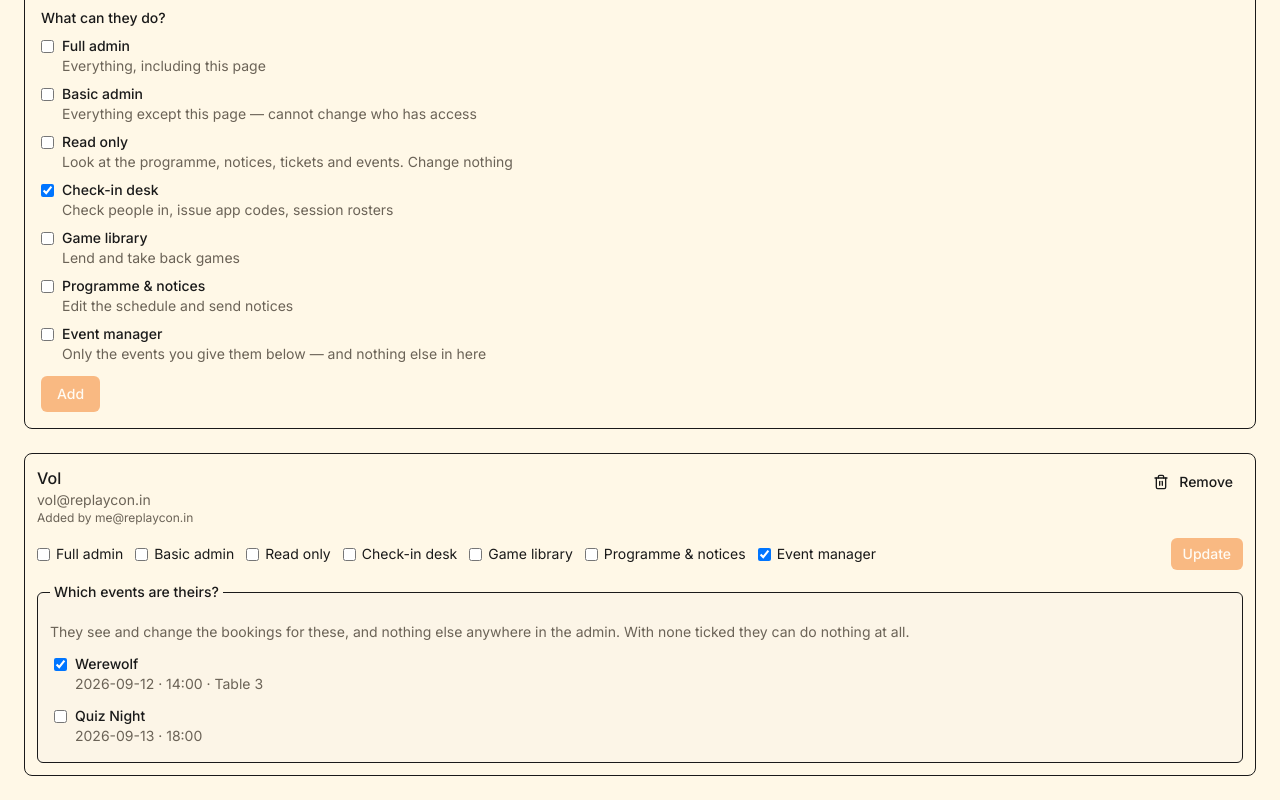
Scenario: handing somebody the events they run › counts a change of sessions alone as an edit worth saving
(page scrolled)
Expected: the button "Update" is disabled, [1170,538,1243,570]
What coordinates should you click on to do the following:
click the checkbox labelled "Quiz Night 2026-09-13 · 18:00"
I would click on:
 (60, 716)
Its box is [54,710,67,723].
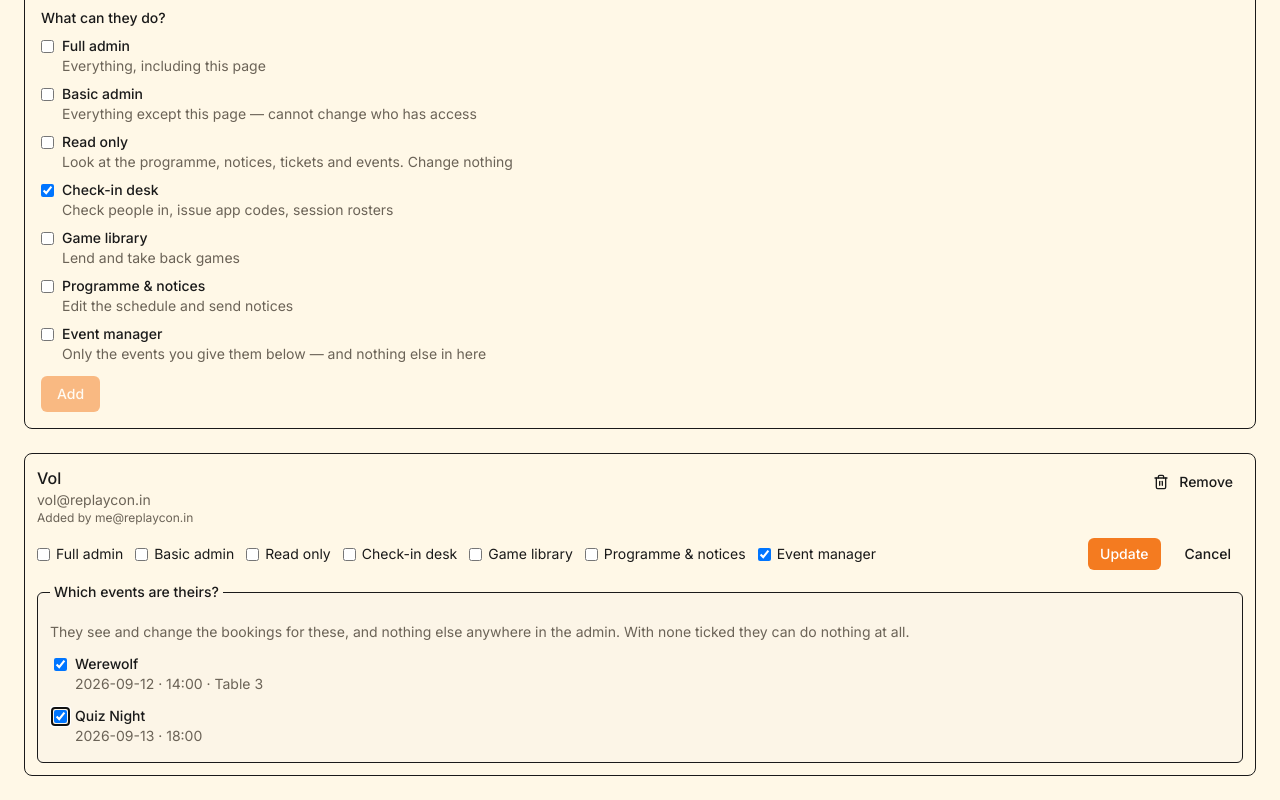
Now the button "Update" is enabled, box [1088,538,1160,570]
